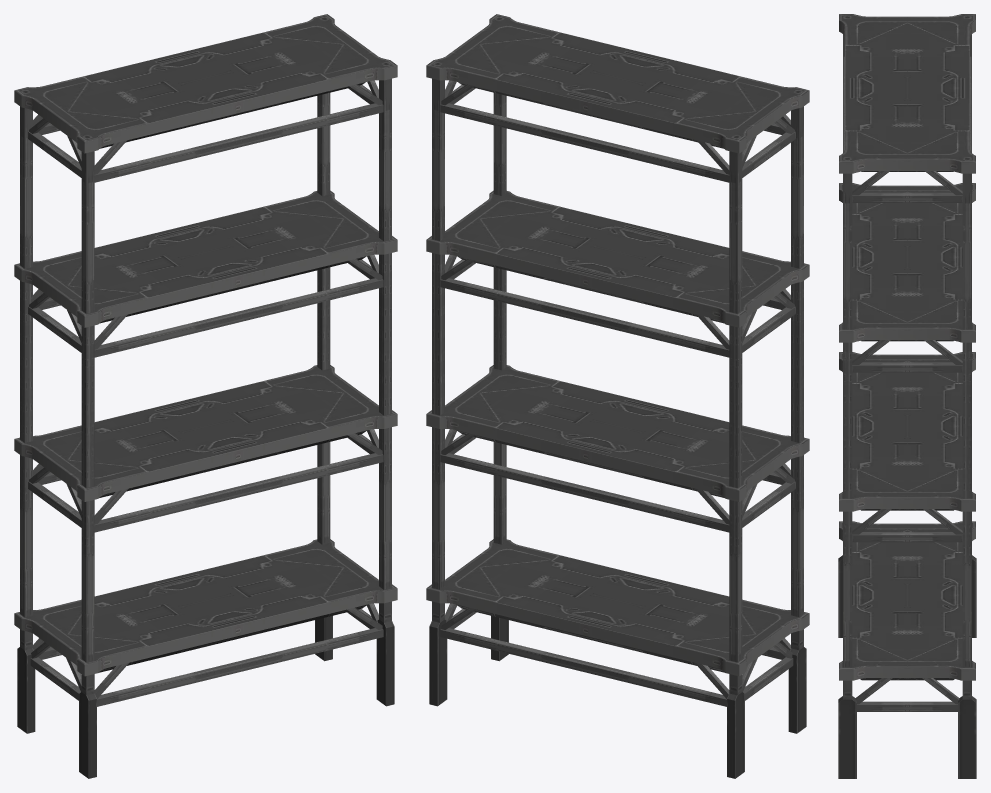
Rendered from Shelves ThinTall.glb.
The picture shows the model from 3 angles, left to right: view 1: azimuth 30°, elevation 25°; view 2: azimuth 150°, elevation 25°; view 3: azimuth 270°, elevation 25°; orthographic projection. The views are drawn at different scales.
Parts seen in each view (by area): view 1: Prop_Shelves_ThinTall; view 2: Prop_Shelves_ThinTall; view 3: Prop_Shelves_ThinTall.
Boxes of the visible parts, x1,y1,x2,y2 form: Prop_Shelves_ThinTall: [14, 14, 397, 778]; Prop_Shelves_ThinTall: [426, 14, 809, 778]; Prop_Shelves_ThinTall: [838, 14, 976, 778].
Size of the model in its own units: 1.37 by 2.67 by 0.5407.
Materials: 1 (1 with a texture image).
